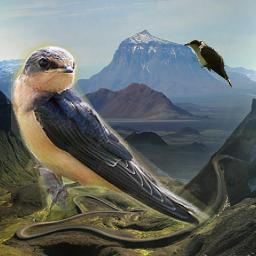Cuckoo: (183, 40, 232, 89)
Swallow: (11, 35, 221, 235)
